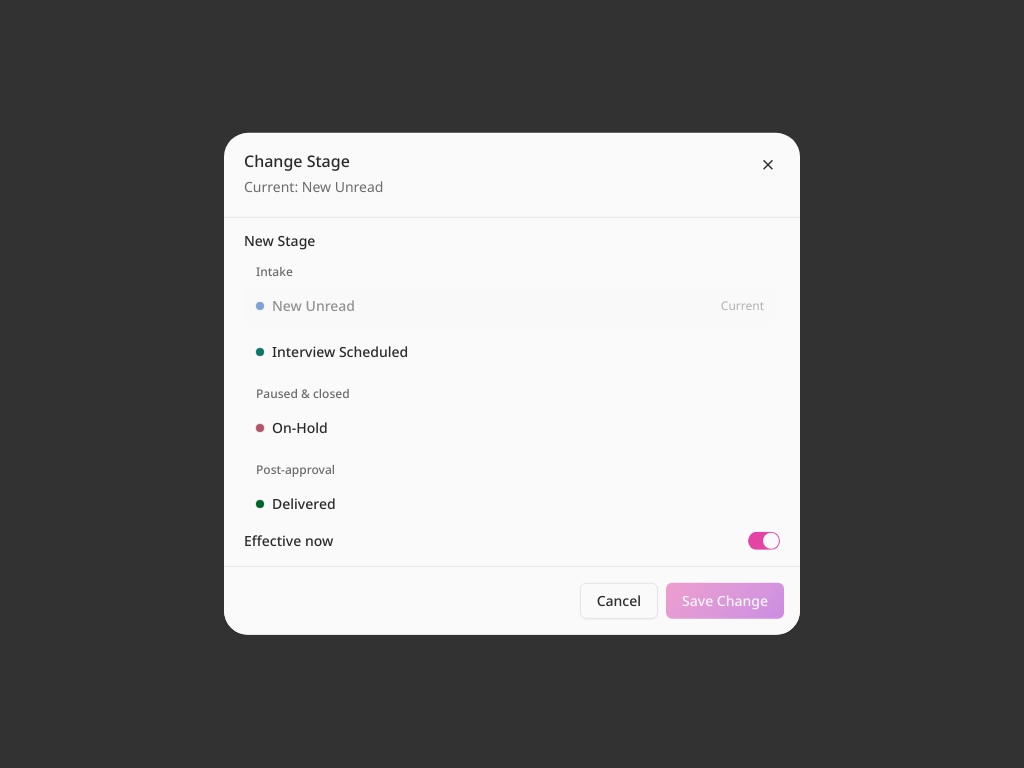
ChangeStageModal › shows delivery fields when the delivered slug is renamed
Click the button "Delivered" at (304, 503), box left=244, top=484, right=776, bottom=524
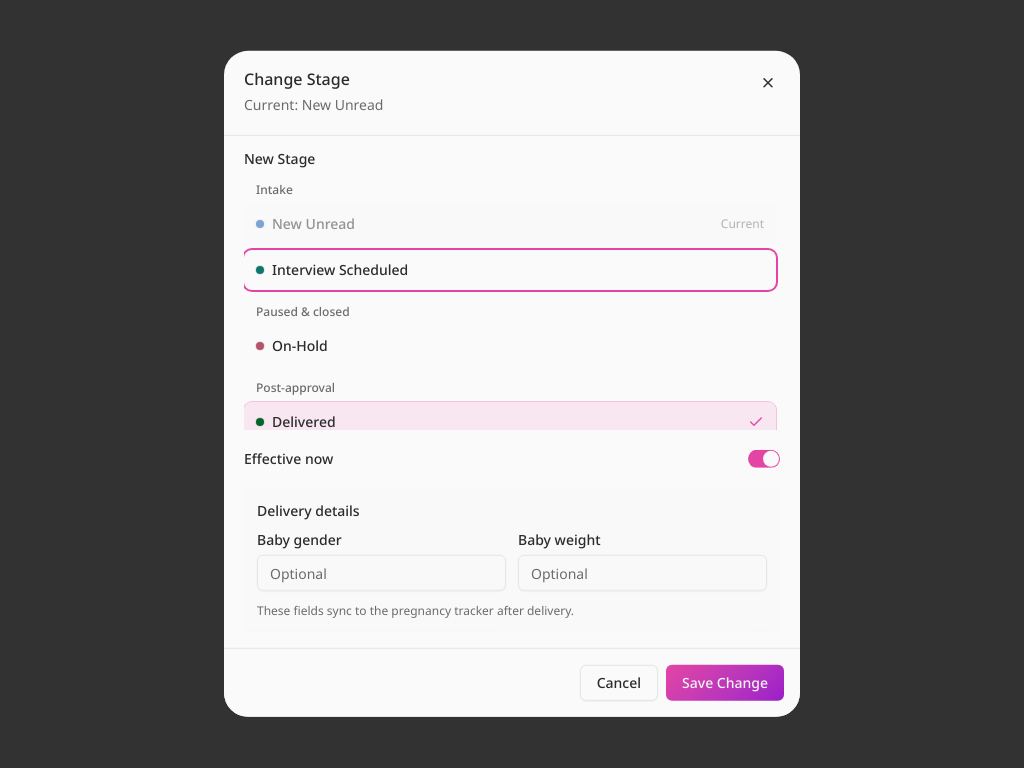
Result: the field labelled "Baby gender" is shown at left=257, top=555, right=506, bottom=591
Result: the field labelled "Baby weight" is shown at left=518, top=555, right=767, bottom=591
